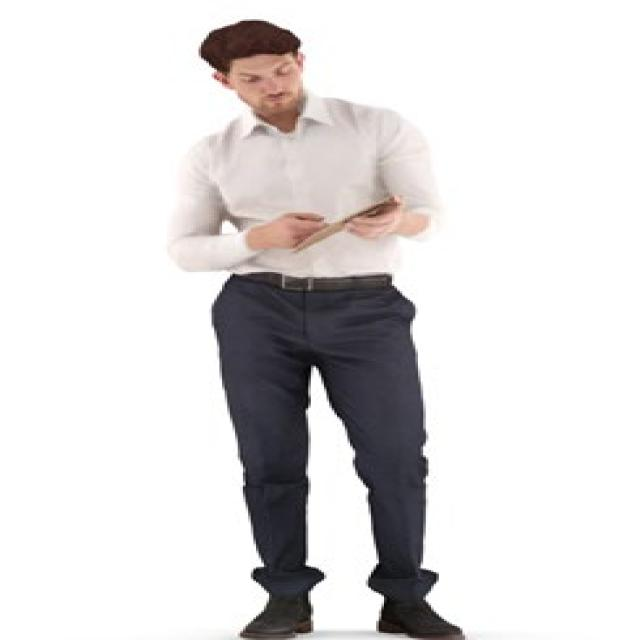standing: (165, 17, 465, 640)
